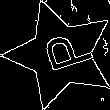P_W: (29, 29, 92, 80)
